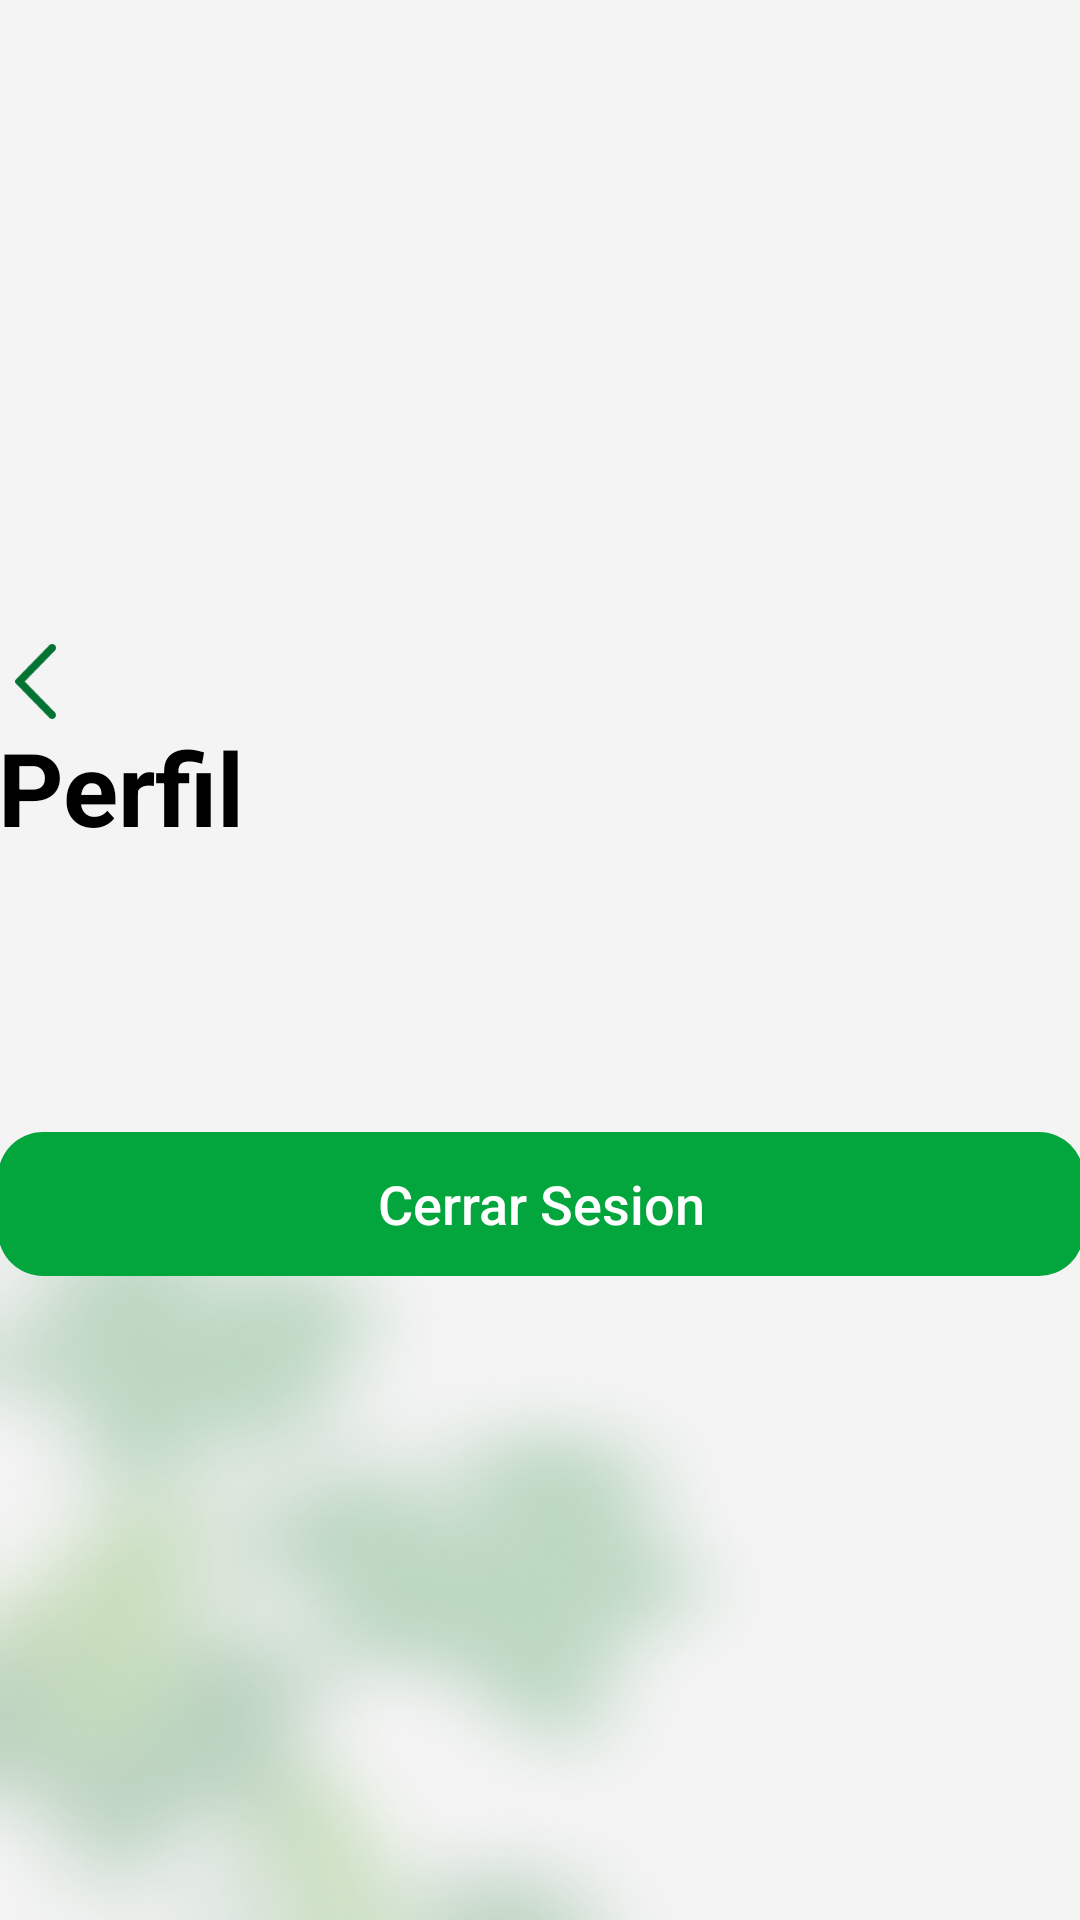

Point at icon controls on the screen. Image size 1080*1920, points as (x=x, y=y).
volver: (x=35, y=681)
